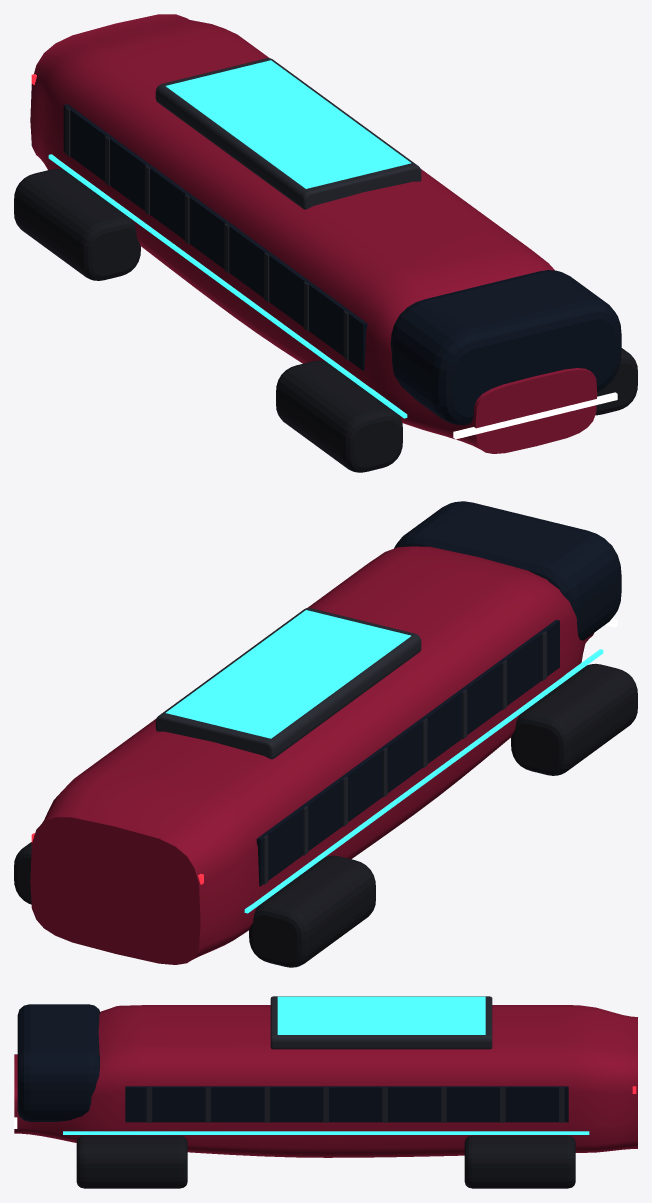
Rendered from tr_shuttle.glb.
The picture shows the model from 3 angles, top to bottom: view 1: azimuth 30°, elevation 25°; view 2: azimuth 150°, elevation 25°; view 3: azimuth 270°, elevation 25°; orthographic projection. The views are drawn at different scales.
Parts seen in each view (by area): view 1: paint, glass, paint2, neon, trim, light_head; view 2: paint, glass, paint2, neon, trim; view 3: paint, glass, paint2, neon, trim.
Boxes of the visible parts, x1,y1,x2,y2 form: paint: [30, 14, 597, 453]; glass: [63, 104, 621, 425]; paint2: [14, 169, 637, 472]; neon: [48, 60, 410, 418]; trim: [65, 58, 421, 360]; light_head: [453, 392, 617, 439]; paint: [30, 546, 593, 964]; glass: [256, 501, 621, 886]; paint2: [14, 663, 637, 967]; neon: [166, 610, 603, 913]; trim: [155, 607, 546, 884]; paint: [14, 1005, 637, 1157]; glass: [17, 1004, 568, 1122]; paint2: [76, 1135, 575, 1188]; neon: [63, 996, 589, 1134]; trim: [146, 996, 564, 1122].
Size of the model in its own units: 3.63 by 2 by 9.
